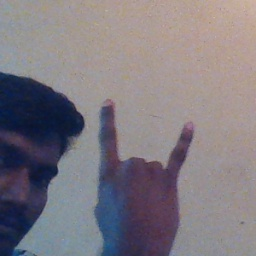V: (87, 98, 200, 250)
